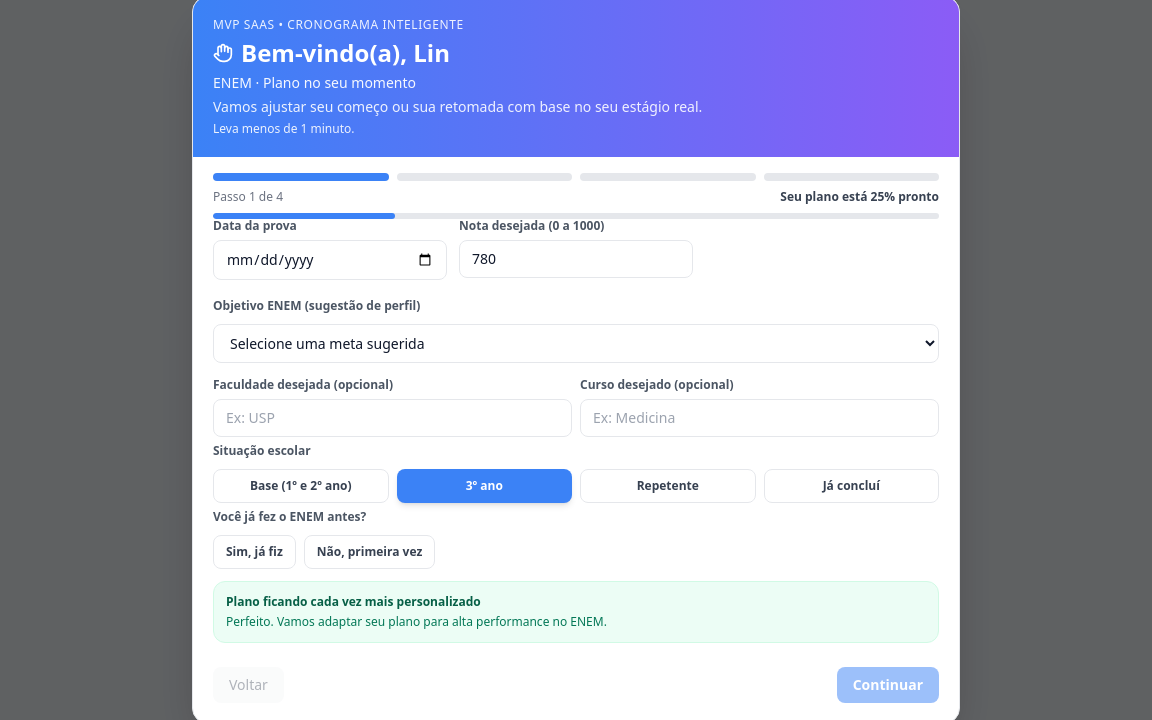
Test: OnboardingFlow › libera intermediario e avancado quando o usuario ja fez ENEM antes
The image size is (1152, 720).
(page scrolled)
Click the button "Sim, já fiz" at (254, 552), box [213,534,296,568]
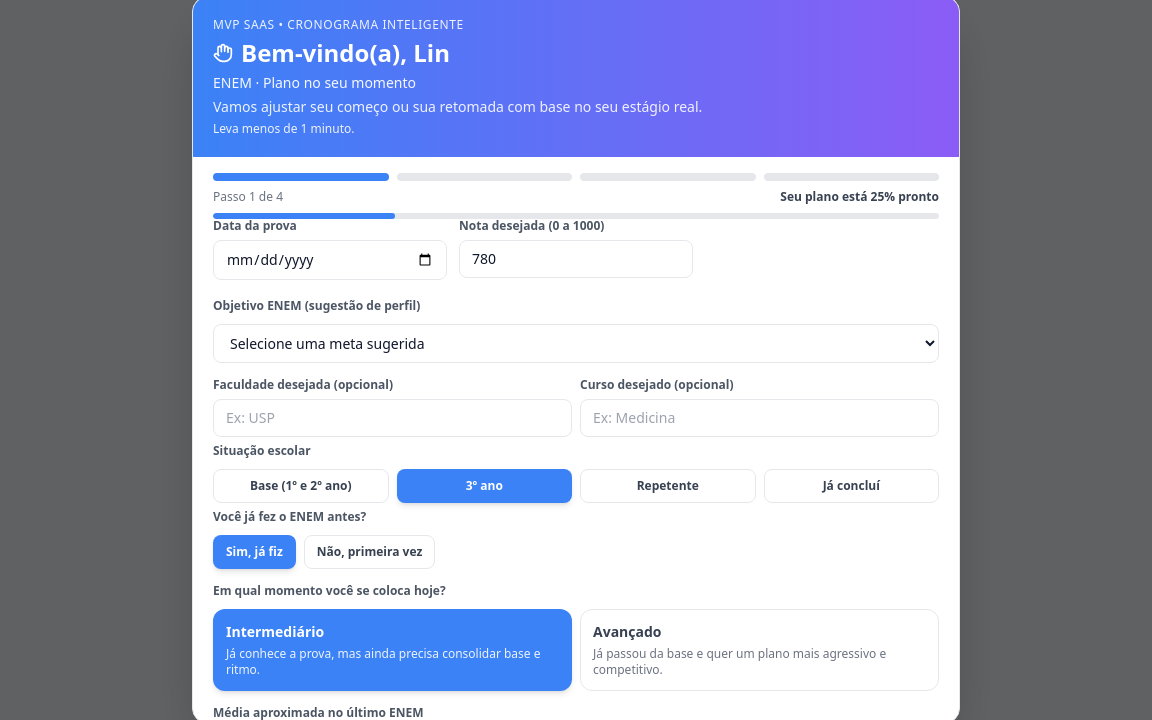
Now the text "Intermediário" is shown, box [226,622,324,640]
Now the text "Avançado" is shown, box [593,622,662,640]
